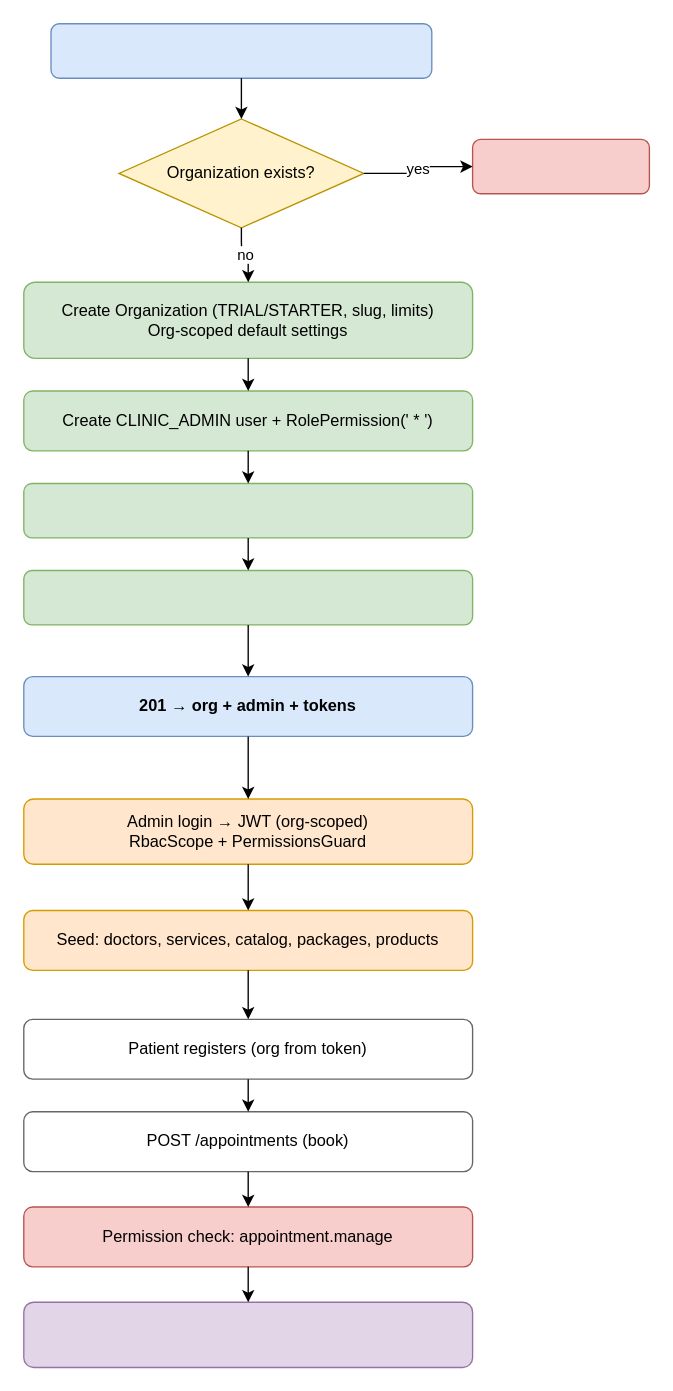
Image size: 673x1391. Some labels were removed from this diagram. Each missing label, with the box of its shape:
409 Conflict: (471, 138, 649, 194)
Audit log + Notification (welcome): (22, 569, 473, 625)
Create default Clinic: (22, 482, 473, 538)
Pending → Confirmed → Completed / No-show: (22, 1301, 473, 1367)
POST /auth/tenant-signup: (50, 22, 432, 78)
